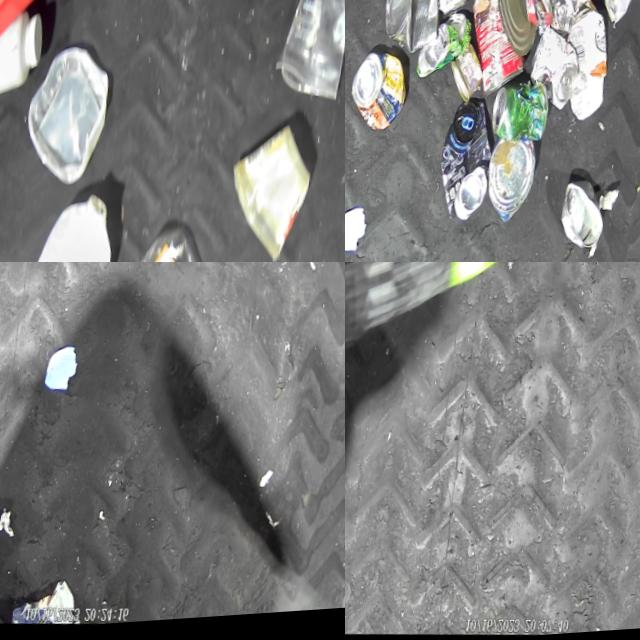can: (436, 102, 504, 228), (462, 0, 539, 102), (349, 51, 414, 136), (527, 28, 586, 118), (485, 142, 544, 230), (490, 81, 554, 150), (380, 0, 451, 60), (560, 184, 614, 261), (418, 13, 475, 85), (488, 0, 549, 61), (448, 45, 489, 107), (596, 0, 640, 31), (425, 0, 486, 20)
milk_jug: (7, 182, 130, 262)
non_white_jug: (0, 0, 55, 80)
